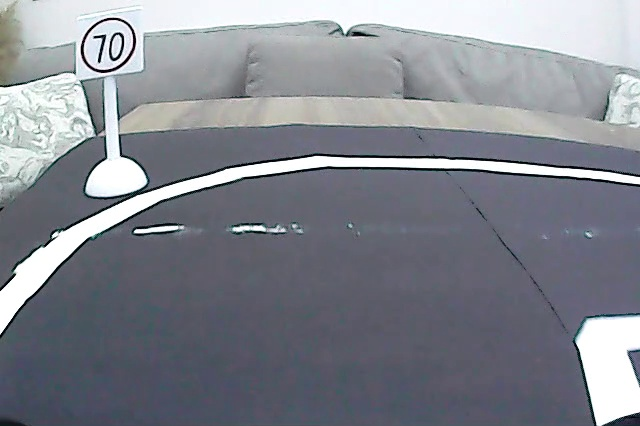speed limit 70: (78, 14, 137, 76)
